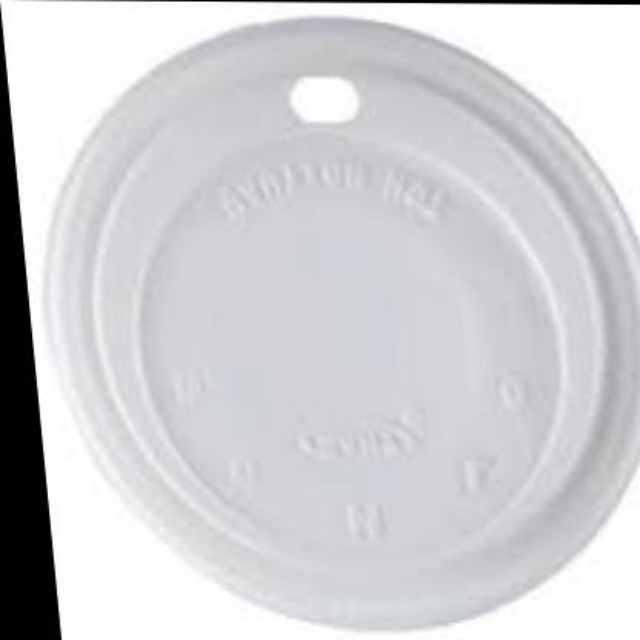trash: (45, 18, 638, 626)
